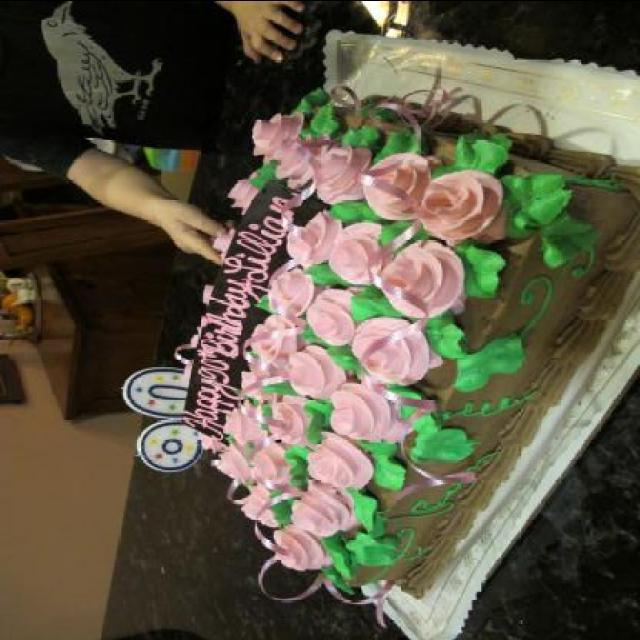Cake: (176, 84, 639, 602)
